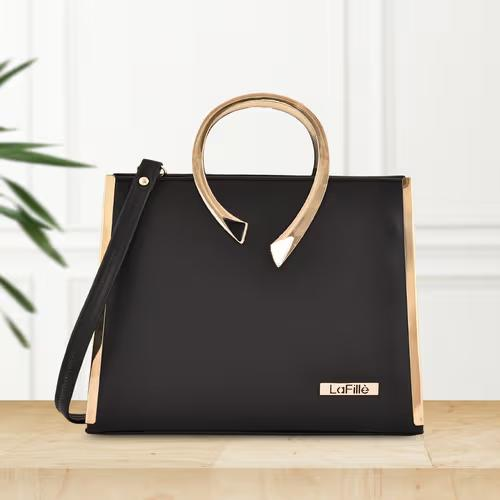handbag: (69, 96, 424, 433)
